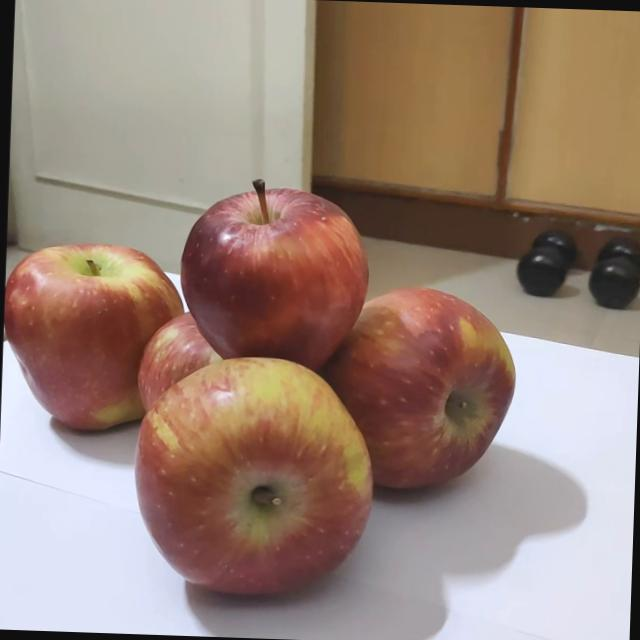apple: (111, 343, 378, 614), (322, 283, 526, 504), (168, 170, 373, 389), (0, 228, 194, 437)
